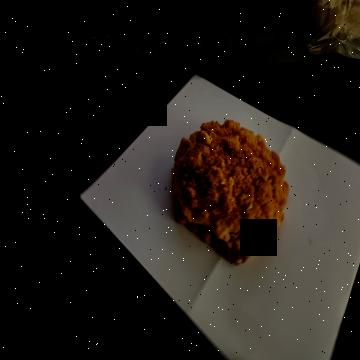soboru_bread: (168, 119, 289, 270)
